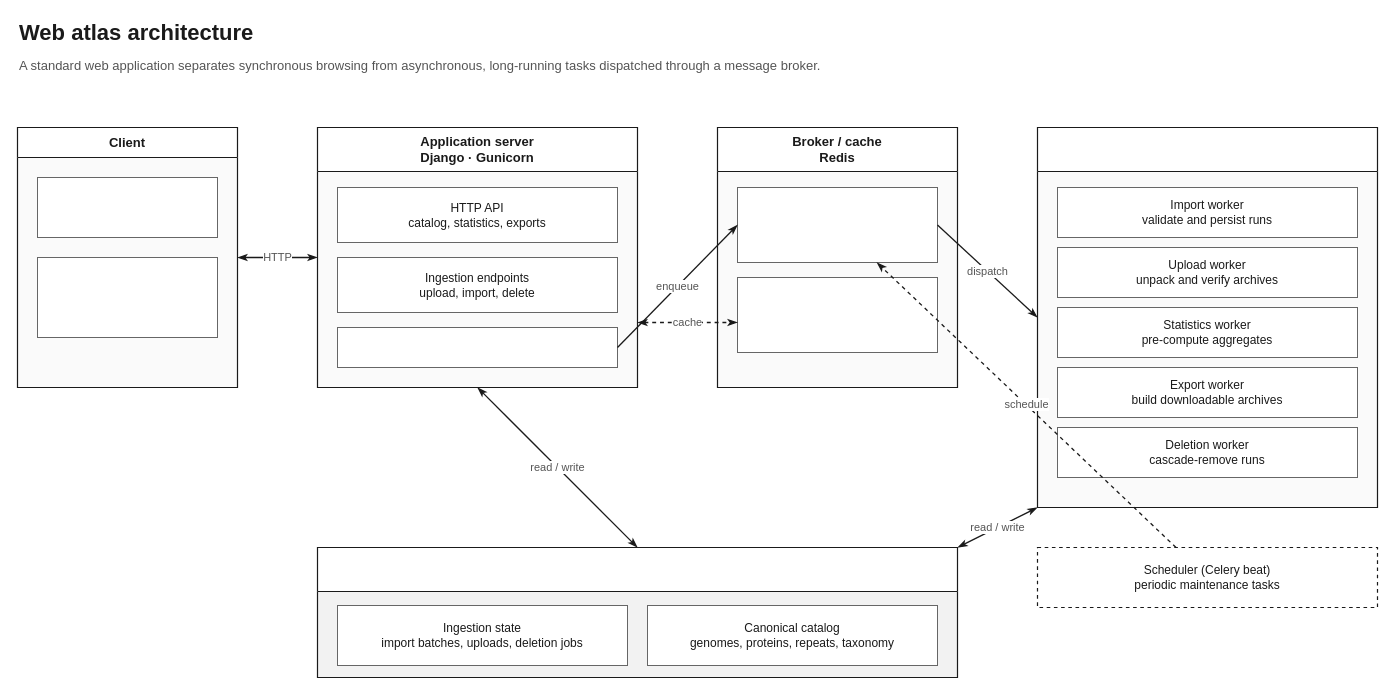
This 1396x695 diagram has some shape labels left out. The box of each missing label's shape, as (x1, y1, x2, y2) in pixels:
Browser catalog views, exports: (36, 176, 218, 238)
Job queues (Celery broker): (736, 186, 938, 262)
Relational database PostgreSQL: (316, 546, 958, 678)
Result cache pre-computed statistics: (736, 276, 938, 352)
Task dispatcher (Celery): (336, 326, 618, 368)
Upload + polling chunked uploads, job status checks: (36, 256, 218, 338)
Worker pool Celery workers: (1036, 126, 1378, 508)
